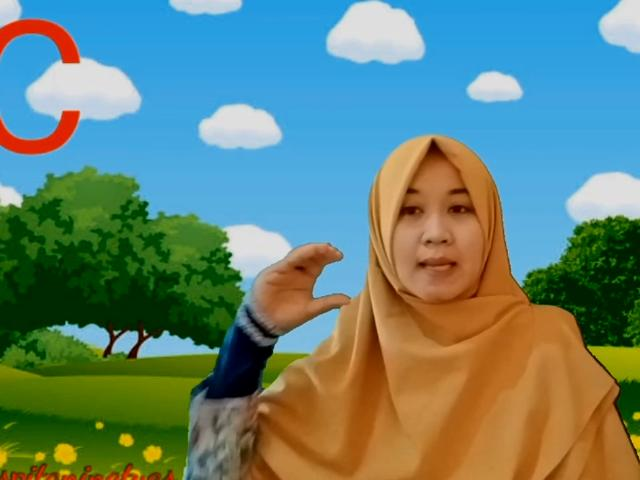C: (248, 241, 356, 333)
